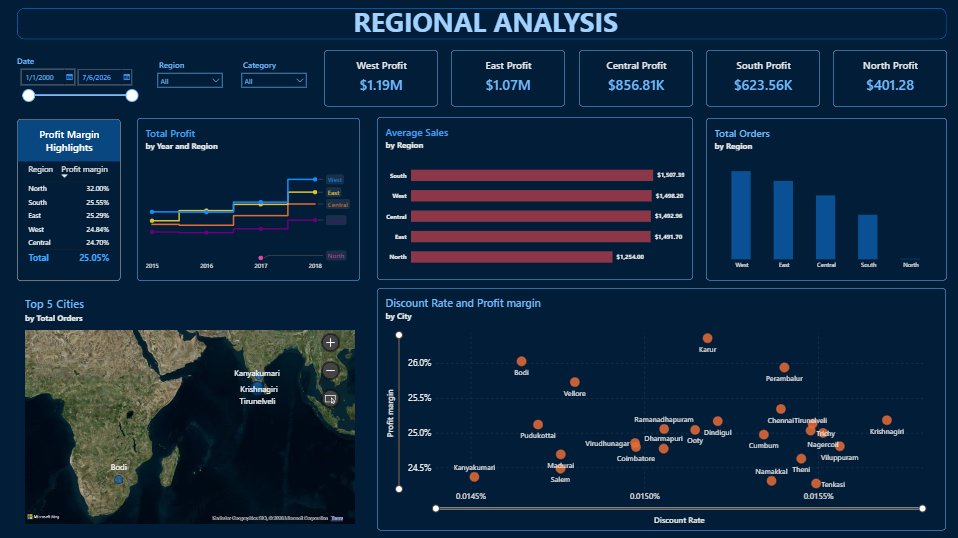

The dashboard page shown, as its layout file describes it:
{"tool":"powerbi","page":{"name":"Regional Analysis","canvas":[1920,1080],"ordinal":1},"visuals":[{"type":"shape","box":[36.4,16.2,1859.4,62.7],"z":0},{"type":"textbox","box":[77.1,5.3,1790.7,78.8],"z":1000},{"type":"columnChart","fields":{"Category":["Supermart Grocery Sales.Region"],"Y":["Analytics.Total Orders"]},"box":[1413.2,235.8,481.9,324.7],"z":2000},{"type":"lineChart","fields":{"Category":["Calendar.Year"],"Series":["Supermart Grocery Sales.Region"],"Y":["Analytics.Total Profit"]},"box":[276.1,236,446,326],"z":3000},{"type":"map","title":"Top 5 Cities","fields":{"Category":["Supermart Grocery Sales.City"],"Size":["Analytics.Total Orders"]},"box":[36,578,692.6,485.5],"z":4000},{"type":"clusteredBarChart","fields":{"Category":["Supermart Grocery Sales.Region"],"Y":["Analytics.Average Sales"]},"box":[755.3,234.1,632.3,326.4],"z":5000},{"type":"card","title":"North Profit","fields":{"Values":["Analytics.Total Profit"]},"box":[1668.6,100,228,114],"z":6000},{"type":"card","title":"West Profit","fields":{"Values":["Analytics.Total Profit"]},"box":[650,100,228.3,112.9],"z":7000},{"type":"card","title":"Central Profit","fields":{"Values":["Analytics.Total Profit"]},"box":[1159.3,100,228.3,112.9],"z":8000},{"type":"card","title":"East Profit","fields":{"Values":["Analytics.Total Profit"]},"box":[904.6,100,228.3,112.9],"z":9000},{"type":"card","title":"South Profit","fields":{"Values":["Analytics.Total Profit"]},"box":[1413.9,100,228.3,112.9],"z":10000},{"type":"scatterChart","fields":{"Category":["Supermart Grocery Sales.City"],"X":["Analytics.Discount Rate"],"Y":["Analytics.Profit margin"]},"box":[755,576.7,1138.3,485],"z":11000},{"type":"tableEx","title":"Profit Margin Highlights","fields":{"Values":["Supermart Grocery Sales.Region","Analytics.Profit margin"]},"box":[36,238,207.1,324.2],"z":12000},{"type":"slicer","title":"Date","fields":{"Values":["Calendar.Date"]},"box":[35.9,109.4,246.1,105.9],"z":13000},{"type":"slicer","title":"Region","fields":{"Values":["Supermart Grocery Sales.Category"]},"box":[480.2,117.9,140.1,78.6],"z":14000},{"type":"slicer","title":"Region","fields":{"Values":["Supermart Grocery Sales.Region"]},"box":[312.7,117.9,140.1,78.6],"z":15000}]}

Visuals, with their boxes in screenshot pixels (x1, y1, x2, y2), scaled from the page's 1920x1080 canvas onto the 958x538 screenshot:
shape: Rect(18, 8, 946, 39)
textbox: Rect(38, 3, 932, 42)
columnChart - Supermart Grocery Sales.Region x Analytics.Total Orders: Rect(705, 117, 946, 279)
lineChart - Calendar.Year x Supermart Grocery Sales.Region: Rect(138, 118, 360, 280)
"Top 5 Cities" map: Rect(18, 288, 364, 530)
clusteredBarChart - Supermart Grocery Sales.Region x Analytics.Average Sales: Rect(377, 117, 692, 279)
"North Profit" card: Rect(833, 50, 946, 107)
"West Profit" card: Rect(324, 50, 438, 106)
"Central Profit" card: Rect(578, 50, 692, 106)
"East Profit" card: Rect(451, 50, 565, 106)
"South Profit" card: Rect(705, 50, 819, 106)
scatterChart - Supermart Grocery Sales.City x Analytics.Discount Rate: Rect(377, 287, 945, 529)
"Profit Margin Highlights" tableEx: Rect(18, 119, 121, 280)
"Date" slicer: Rect(18, 54, 141, 107)
"Region" slicer: Rect(240, 59, 310, 98)
"Region" slicer: Rect(156, 59, 226, 98)
